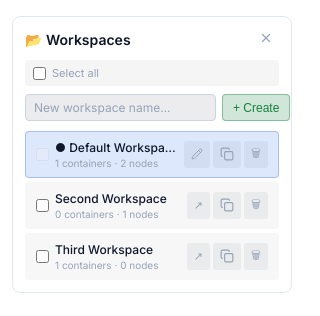
Test case: WorkspaceManager › shows delete selected button only when items are selected
This screenshot has width=320, height=316.
Check: the text "Delete selected" is not shown
Click the checkbox named "Select Second Workspace": (42, 206) top-left (36, 199), bottom-right (49, 212)
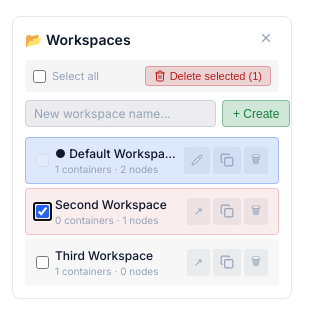
Check: the button "Delete selected (1)" is shown, box top-left (145, 66), bottom-right (271, 86)
